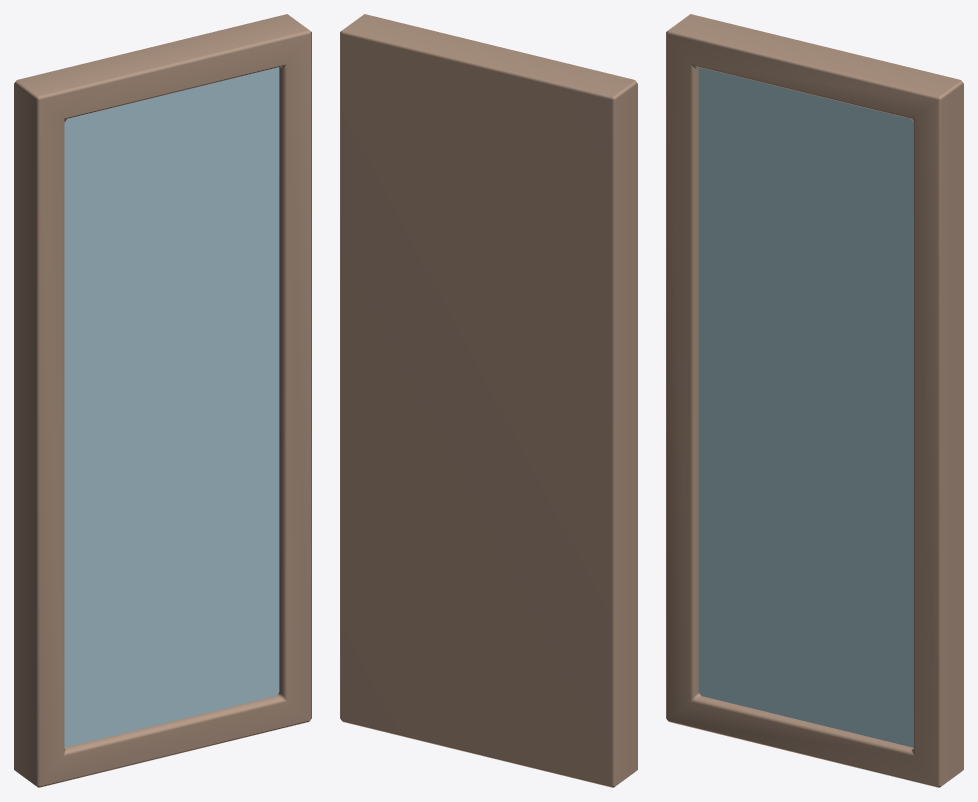
The model's file is Mirror_1.glb.
3 renders of one model, left to right at view 1: azimuth 30°, elevation 25°; view 2: azimuth 150°, elevation 25°; view 3: azimuth 330°, elevation 25°, orthographic.
Parts seen in each view (by area): view 1: Mirror_1; view 2: Mirror_1; view 3: Mirror_1.
Boxes of the visible parts, x1,y1,x2,y2 form: Mirror_1: [14, 14, 311, 787]; Mirror_1: [340, 14, 637, 787]; Mirror_1: [666, 14, 963, 787].
Bounding box in the file's own units: 0.9224 × 2.21 × 0.1446.
1 material, 1 textured.
